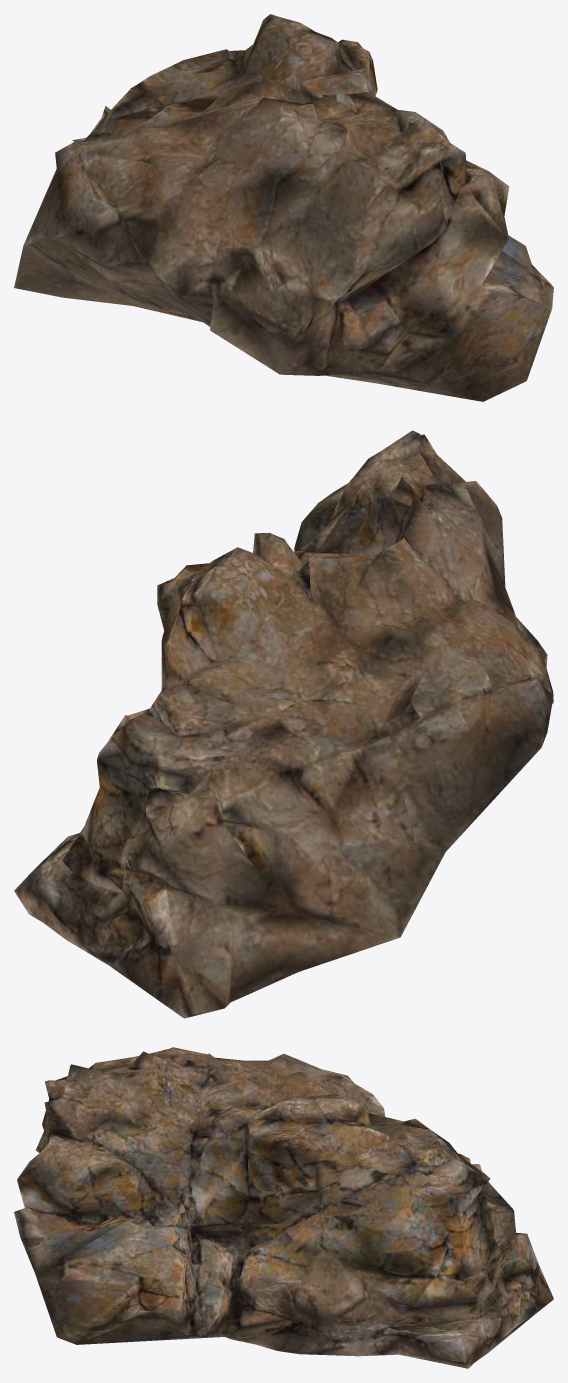
File: boulder.glb
3 views of the same model, one above another, from view 1: azimuth 30°, elevation 25°; view 2: azimuth 150°, elevation 25°; view 3: azimuth 270°, elevation 25° (orthographic). The views are drawn at different scales.
Visible parts, largest first — view 1: boulder_01; view 2: boulder_01; view 3: boulder_01.
Boxes of the visible parts, left/top/right/bottom form: boulder_01: left=14, top=14, right=553, bottom=401; boulder_01: left=14, top=430, right=553, bottom=1018; boulder_01: left=14, top=1047, right=553, bottom=1368.
Size of the model in its own units: 1.26 by 0.9816 by 1.81.
Materials: 1 (1 with a texture image).
